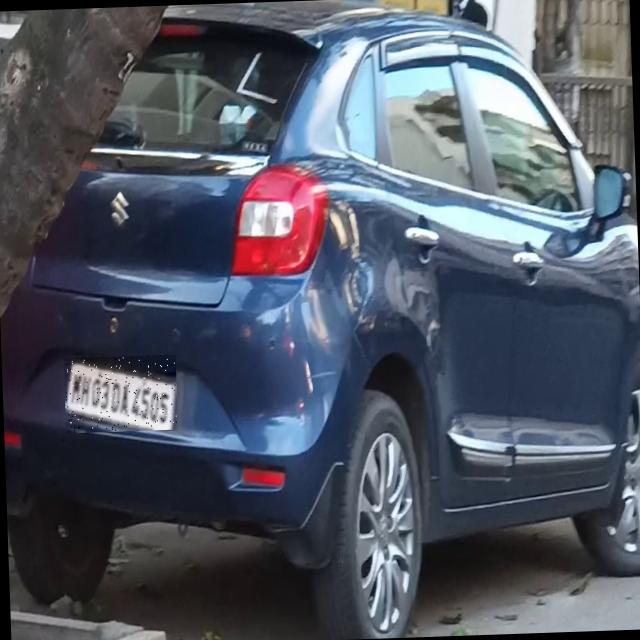Plate: (64, 355, 179, 434)
